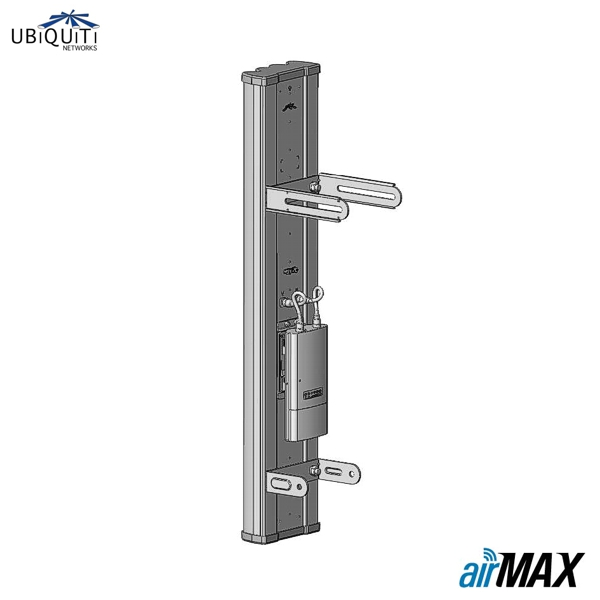sa: (228, 44, 367, 569)
